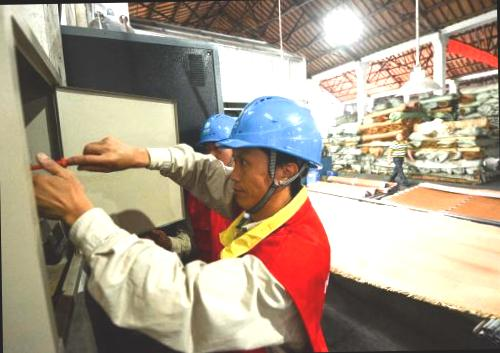no_helmet: (392, 128, 406, 143)
